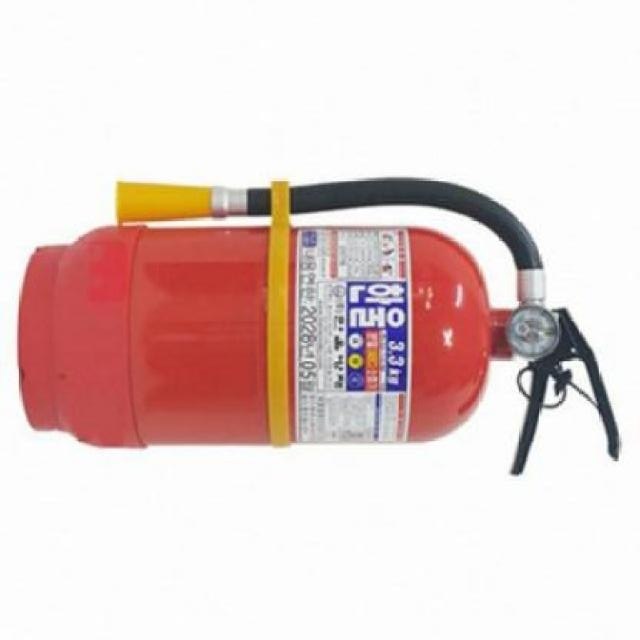fire extinguisher: (18, 176, 622, 478)
